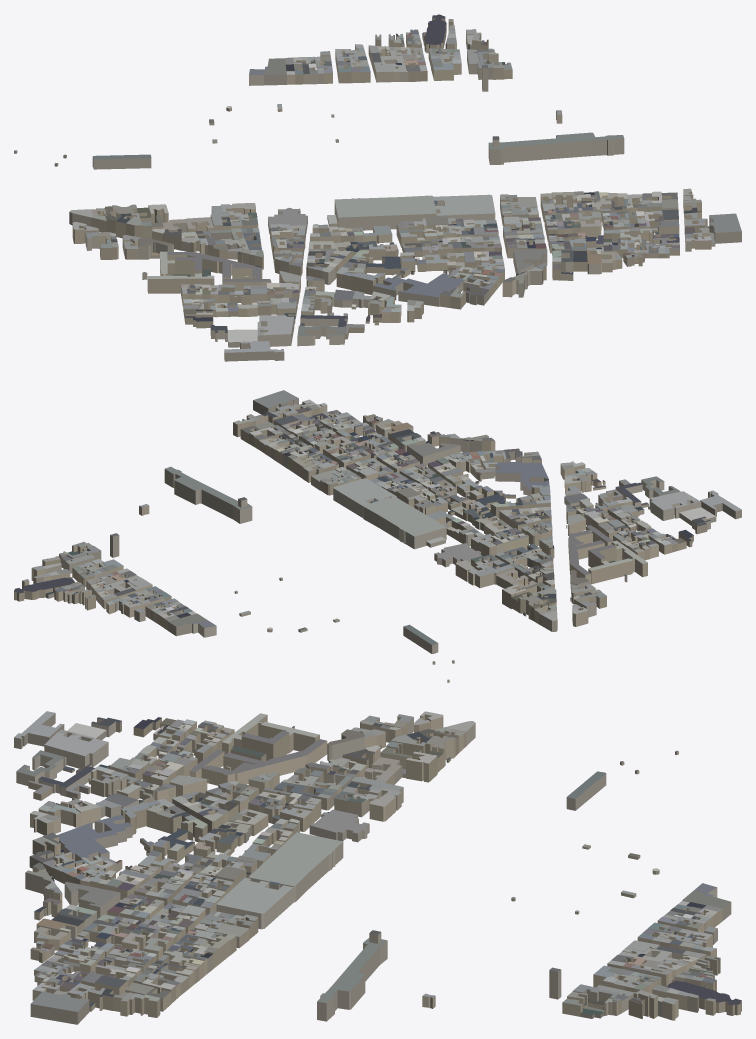
3 renders of one model, top to bottom at view 1: azimuth 30°, elevation 25°; view 2: azimuth 150°, elevation 25°; view 3: azimuth 270°, elevation 25°, orthographic. The views are drawn at different scales.
Visible parts, largest first — view 1: tuile; view 2: tuile; view 3: tuile.
Boxes of the visible parts, <box> form: tuile: <box>14,14,741,361</box>; tuile: <box>14,390,741,682</box>; tuile: <box>14,711,741,1024</box>.
Bounding box in the file's own units: 1062 × 48.14 × 1078.
